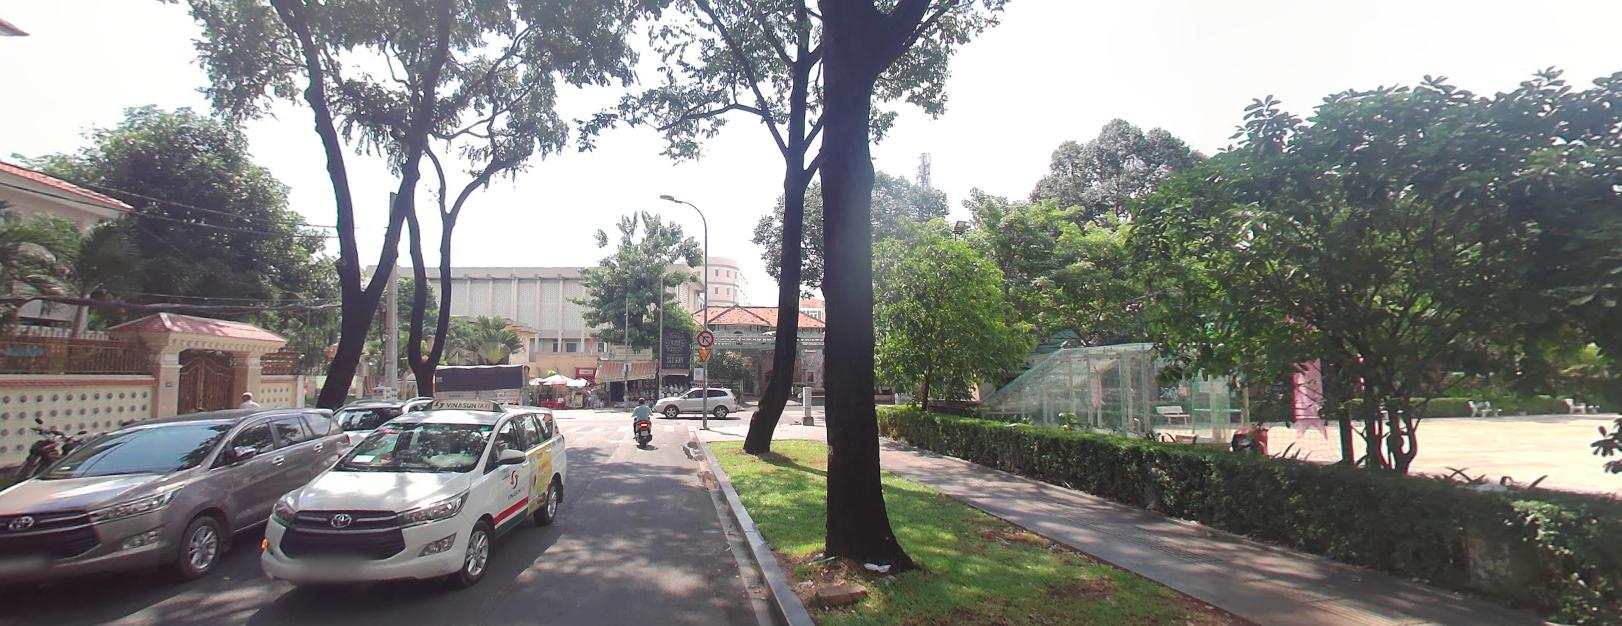Cam re: (696, 329, 714, 345)
Nguy hiem: (696, 347, 710, 360)
